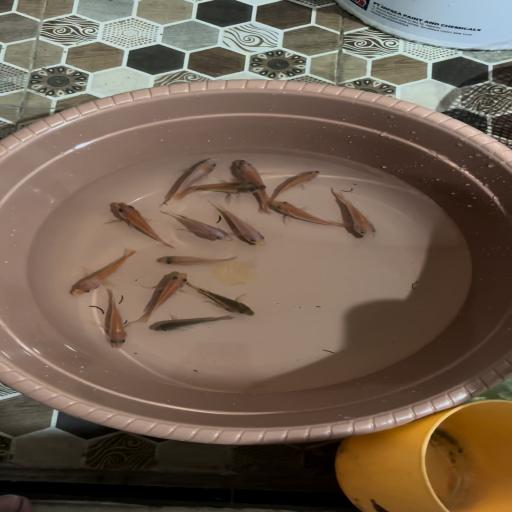nila: (63, 251, 140, 301), (329, 178, 381, 244), (154, 154, 220, 206), (106, 201, 172, 251), (189, 278, 263, 320), (216, 204, 284, 249), (142, 314, 240, 344), (160, 208, 236, 245), (226, 158, 280, 210), (271, 198, 348, 232), (95, 292, 135, 352), (143, 270, 193, 318), (272, 163, 328, 205), (148, 249, 247, 271), (161, 180, 271, 199)
